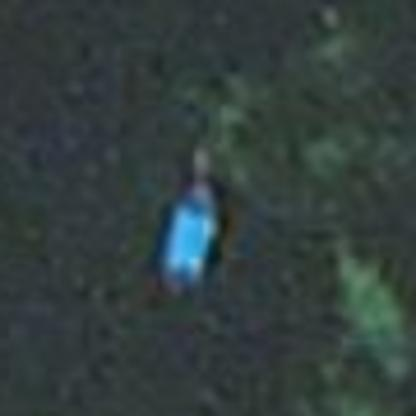ship: (143, 175, 232, 302)
